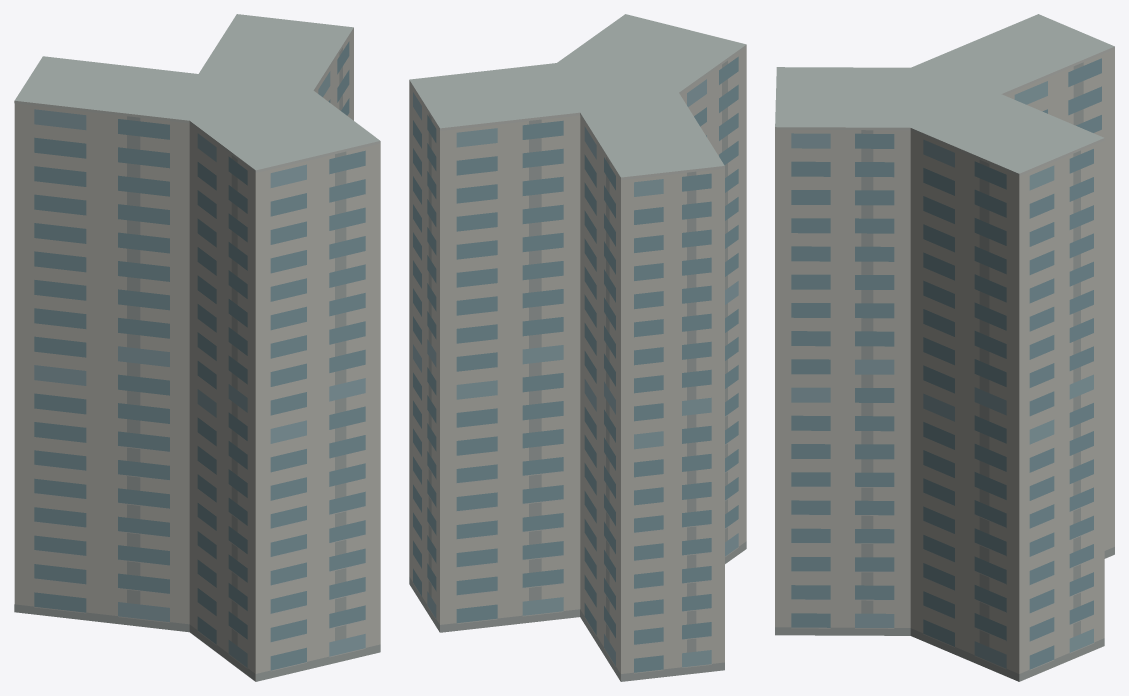
The model's file is residential-ae73df70-b622-43aa-a16f-69e566889161.glb.
3 renders of one model, left to right at view 1: azimuth 30°, elevation 25°; view 2: azimuth 150°, elevation 25°; view 3: azimuth 270°, elevation 25°, orthographic.
Parts seen in each view (by area): view 1: residential-ae73df70-b622-43aa-a16f-69e566889161.tmp; view 2: residential-ae73df70-b622-43aa-a16f-69e566889161.tmp; view 3: residential-ae73df70-b622-43aa-a16f-69e566889161.tmp.
Boxes of the visible parts, x1=… form: residential-ae73df70-b622-43aa-a16f-69e566889161.tmp: x1=14, y1=14, x2=380, y2=681; residential-ae73df70-b622-43aa-a16f-69e566889161.tmp: x1=409, y1=14, x2=746, y2=681; residential-ae73df70-b622-43aa-a16f-69e566889161.tmp: x1=775, y1=14, x2=1114, y2=681.
Bounding box in the file's own units: 32.39 × 48 × 29.11.
